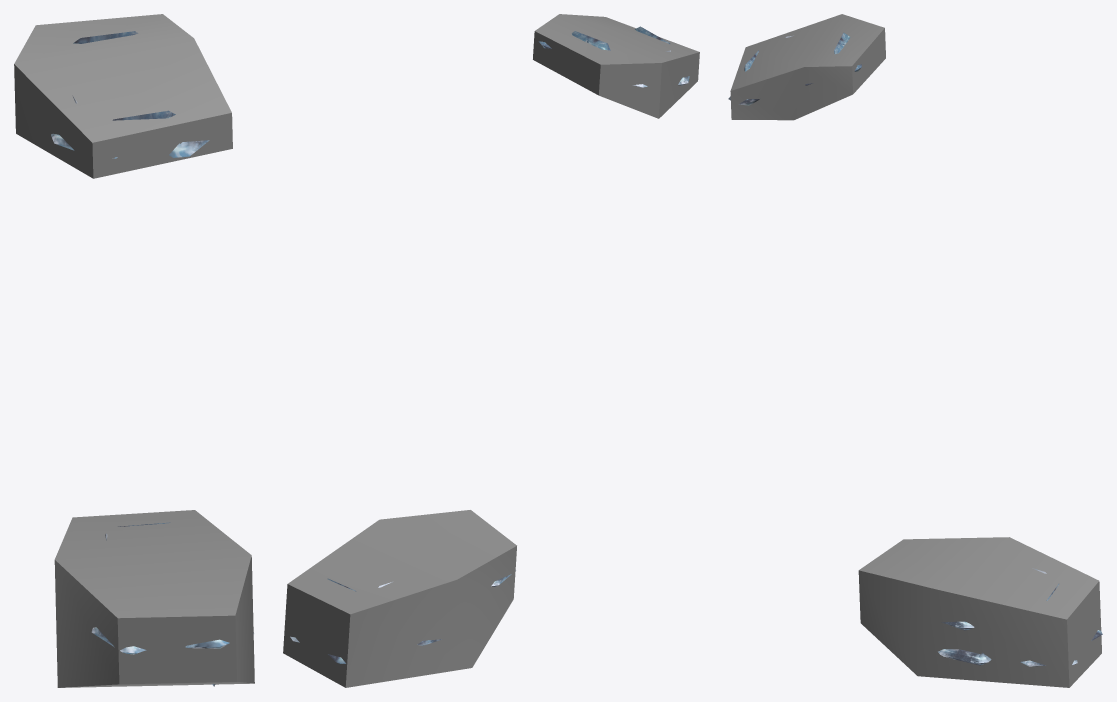
Rendered from Scene_Build_TianShan_SuoLian_1e.FBX.
3 renders of one model, left to right at view 1: azimuth 30°, elevation 25°; view 2: azimuth 150°, elevation 25°; view 3: azimuth 270°, elevation 25°, orthographic. The views are drawn at different scales.
Visible parts, largest first — view 1: Scene_Build_TianShan_SuoLian_1e_Xzm, Scene_Build_TianShan_SuoLian_1e; view 2: Scene_Build_TianShan_SuoLian_1e_Xzm, Scene_Build_TianShan_SuoLian_1e; view 3: Scene_Build_TianShan_SuoLian_1e_Xzm, Scene_Build_TianShan_SuoLian_1e.
Boxes of the visible parts, x1,y1,x2,y2 form: Scene_Build_TianShan_SuoLian_1e_Xzm: (14, 14, 254, 687); Scene_Build_TianShan_SuoLian_1e: (51, 31, 254, 686); Scene_Build_TianShan_SuoLian_1e_Xzm: (283, 14, 699, 687); Scene_Build_TianShan_SuoLian_1e: (290, 26, 689, 663); Scene_Build_TianShan_SuoLian_1e_Xzm: (730, 14, 1101, 687); Scene_Build_TianShan_SuoLian_1e: (728, 32, 1102, 666).
Size of the model in its own units: 702 by 1494 by 899.
